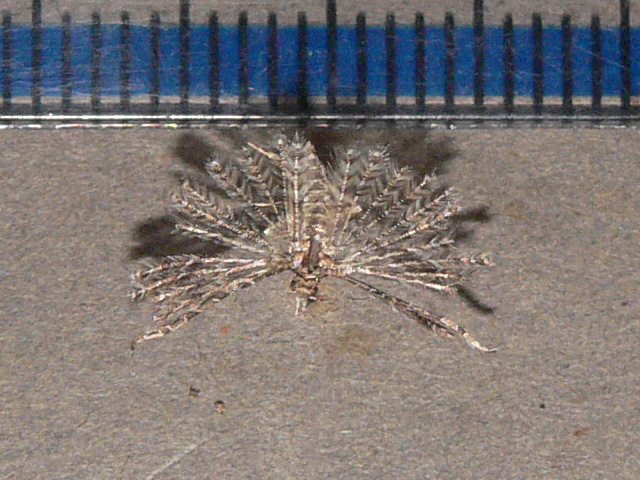Alucitidae: (121, 120, 508, 355)
moth: (123, 122, 510, 357)
